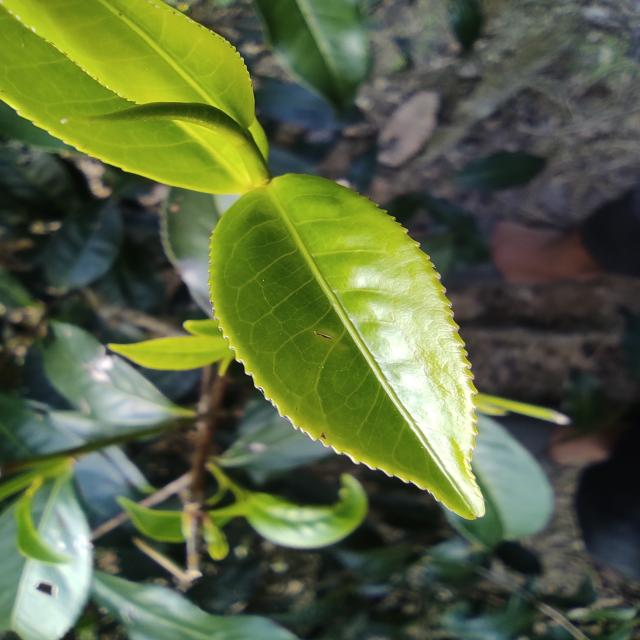Category B(2-4 days): (206, 151, 511, 526)
